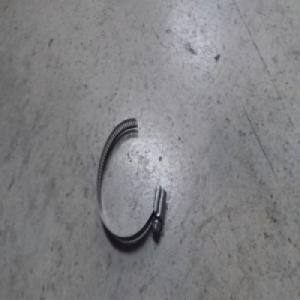AdjustableClamp: (95, 117, 168, 242)
